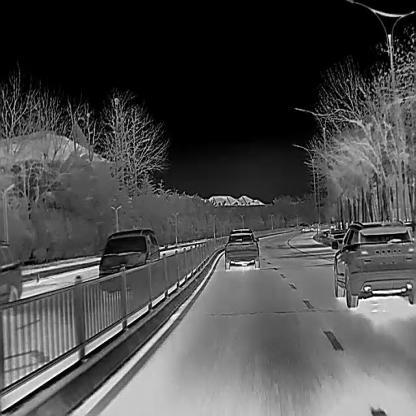car: (333, 217, 415, 307), (98, 225, 159, 295), (0, 237, 23, 319), (222, 226, 260, 271), (312, 221, 321, 231), (301, 222, 309, 232), (287, 223, 296, 230), (297, 222, 304, 231)
